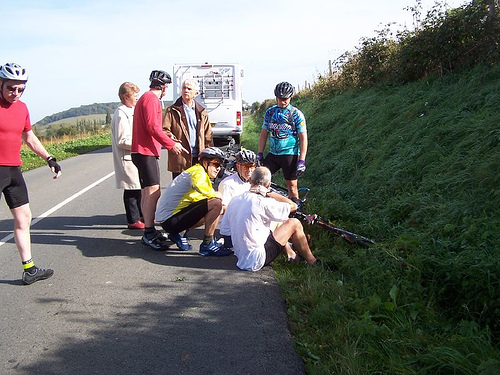helmet: (1, 61, 31, 79), (273, 82, 295, 100), (148, 68, 167, 84), (198, 147, 223, 158), (237, 148, 255, 160)
